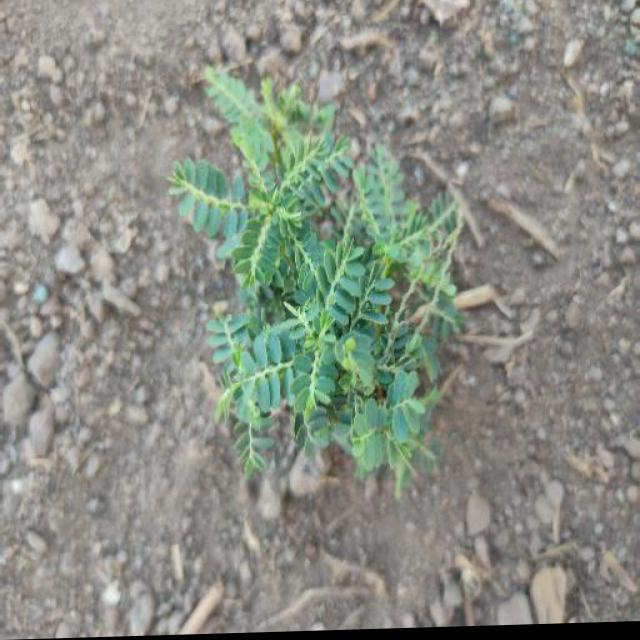weed: (161, 55, 470, 516)
